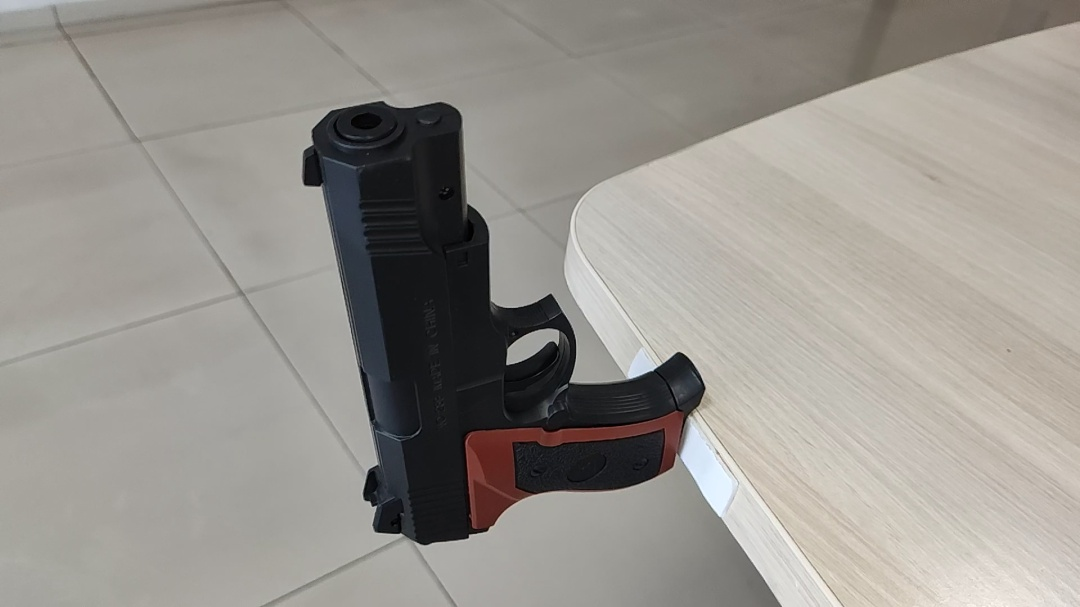gun: (507, 267, 535, 285)
